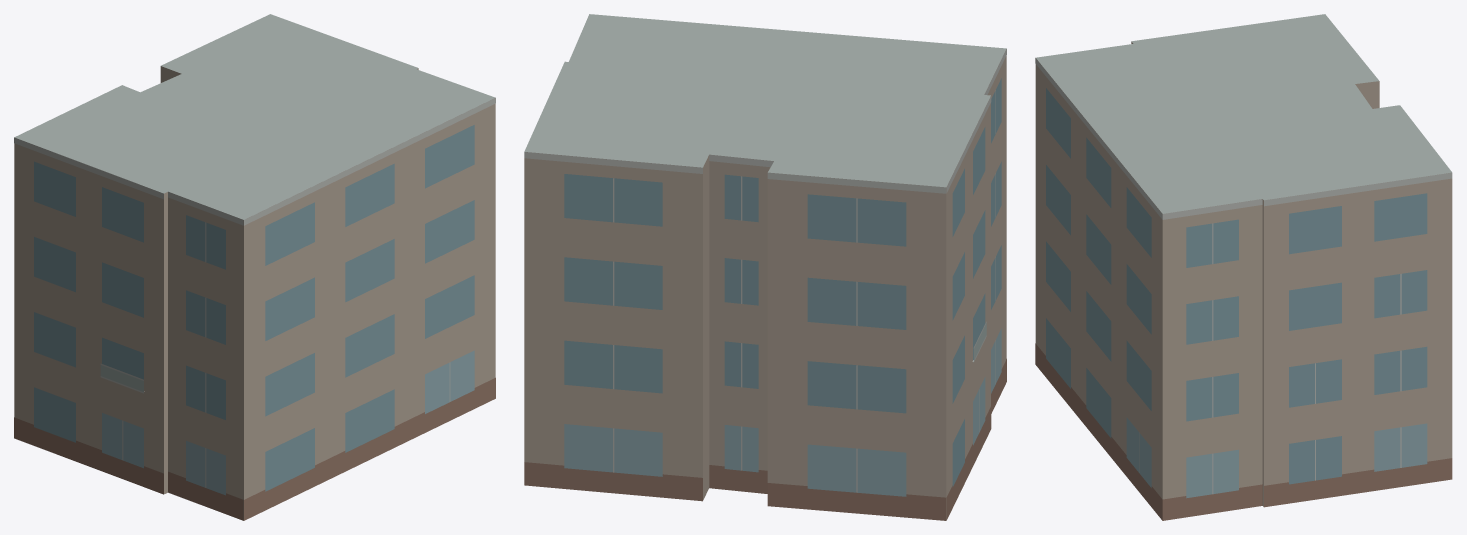
File: survey-upis-32933773.glb
3 views of the same model, side by side, from view 1: azimuth 30°, elevation 25°; view 2: azimuth 150°, elevation 25°; view 3: azimuth 270°, elevation 25° (orthographic). The views are drawn at different scales.
Visible parts, largest first — view 1: survey-upis-32933773.tmp; view 2: survey-upis-32933773.tmp; view 3: survey-upis-32933773.tmp.
Boxes of the visible parts, <box> form: survey-upis-32933773.tmp: <box>14,14,495,520</box>; survey-upis-32933773.tmp: <box>524,14,1006,520</box>; survey-upis-32933773.tmp: <box>1035,14,1452,520</box>.
Bounding box in the file's own units: 17.62 × 12.6 × 15.52.
